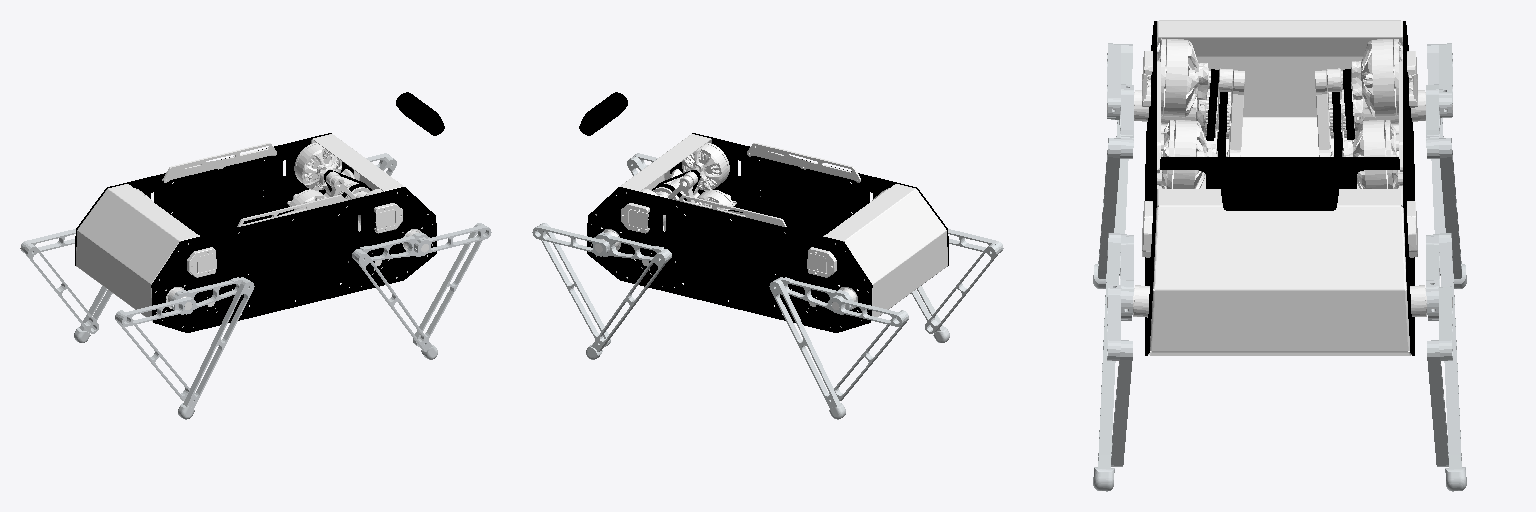
--- What the picture shows (computed from the rendered views, not written in the file) ---
Views: 3 orthographic renders of the robot side by side, from view 1: azimuth 30°, elevation 25°; view 2: azimuth 150°, elevation 25°; view 3: azimuth 270°, elevation 25°.
Robot: doggo_description — 28 links, 27 joints (16 continuous, 11 fixed); root link base_link; default pose: all joints at 0.
Visible links, largest first — view 1: frame, base_link, leg33, leg43, camera_link, leg44, leg32, leg41, leg24, leg31, leg42, leg34 (+1 smaller); view 2: frame, base_link, leg23, leg13, camera_link, leg14, leg22, leg11, leg34, leg12, leg21, leg24; view 3: base_link, frame, camera_link, leg14, leg44, leg13, leg43, leg23, leg33, leg24, leg34, leg12 (+7 smaller).
Boxes of the visible links, x1=… form: frame: x1=75, y1=133, x2=436, y2=332; base_link: x1=76, y1=134, x2=432, y2=327; leg33: x1=183, y1=279, x2=254, y2=408; leg43: x1=413, y1=223, x2=485, y2=346; camera_link: x1=396, y1=92, x2=444, y2=135; leg44: x1=355, y1=251, x2=432, y2=351; leg32: x1=119, y1=297, x2=195, y2=326; leg41: x1=414, y1=225, x2=491, y2=254; leg24: x1=24, y1=244, x2=98, y2=333; leg31: x1=171, y1=277, x2=245, y2=314; leg42: x1=352, y1=232, x2=431, y2=260; leg34: x1=115, y1=310, x2=189, y2=400; frame: x1=587, y1=133, x2=948, y2=332; base_link: x1=591, y1=134, x2=947, y2=327; leg23: x1=769, y1=279, x2=840, y2=408; leg13: x1=538, y1=223, x2=610, y2=346; camera_link: x1=579, y1=92, x2=627, y2=135; leg14: x1=591, y1=251, x2=668, y2=351; leg22: x1=828, y1=295, x2=904, y2=326; leg11: x1=532, y1=225, x2=609, y2=256; leg34: x1=925, y1=244, x2=999, y2=333; leg12: x1=592, y1=232, x2=671, y2=260; leg21: x1=778, y1=277, x2=852, y2=314; leg24: x1=834, y1=310, x2=908, y2=400; base_link: x1=1107, y1=20, x2=1452, y2=355; frame: x1=1145, y1=21, x2=1414, y2=355; camera_link: x1=1221, y1=175, x2=1338, y2=210; leg14: x1=1439, y1=233, x2=1461, y2=468; leg44: x1=1098, y1=233, x2=1120, y2=468; leg13: x1=1427, y1=340, x2=1448, y2=466; leg43: x1=1111, y1=340, x2=1132, y2=466; leg23: x1=1439, y1=138, x2=1461, y2=278; leg33: x1=1098, y1=138, x2=1120, y2=278; leg24: x1=1427, y1=44, x2=1445, y2=275; leg34: x1=1114, y1=44, x2=1132, y2=275; leg12: x1=1426, y1=234, x2=1439, y2=320.
Size in the robot's own frame: 0.5458 by 0.2824 by 0.293 metres.
23 mesh visuals loaded from 23 distinct referenced files (23 binary STL).

URDF robot description (doggo_description):
<?xml version="1.0" encoding="utf-8"?>
<!-- This URDF was automatically created by SolidWorks to URDF Exporter! Originally created by Stephen Brawner ([email redacted]) 
     Commit Version: 1.5.1-0-g916b5db  Build Version: 1.5.7152.31018
     For more information, please see http://wiki.ros.org/sw_urdf_exporter -->
<robot
  name="doggo_description">

    <gazebo reference="base_link">
		<material>Gazebo/White</material>
	</gazebo>
	<gazebo reference="frame">
		<material>Gazebo/Black</material>
	</gazebo>

  <link
    name="base_link">
    <inertial>
      <origin
        xyz="4.0137E-07 -5.4265E-09 -0.0050974"
        rpy="0 0 0" />
      <!-- 1.6553 -->
      <mass
        value="1.6553" />
      <inertia
        ixx="0.0019798"
        ixy="-4.1121E-08"
        ixz="-3.9928E-09"
        iyy="0.0014157"
        iyz="-4.2669E-10"
        izz="0.001756" />
    </inertial>
    <visual>
      <origin
        xyz="0 0 0"
        rpy="0 0 0" />
      <geometry>
        <mesh
          filename="package://doggo_description/meshes/base_link.stl" />
      </geometry>
      <material
        name="">
        <color
          rgba="1 1 1 1" />
      </material>
    </visual>
    <collision>
      <origin
        xyz="0 0 0"
        rpy="0 0 0" />
      <geometry>
        <mesh
          filename="package://doggo_description/meshes/base_link.stl" />
      </geometry>
    </collision>
  </link>
  <link
    name="frame">
    <inertial>
      <origin
        xyz="-0.098956 0.012762 -0.17499"
        rpy="0 0 0" />
      <mass
        value="0.44543" />
      <inertia
        ixx="0.004949"
        ixy="-1.5499E-05"
        ixz="2.3781E-15"
        iyy="0.0046541"
        iyz="-1.2495E-16"
        izz="0.00060534" />
    </inertial>
    <visual>
      <origin
        xyz="0 0 0"
        rpy="0 0 0" />
      <geometry>
        <mesh
          filename="package://doggo_description/meshes/frame.STL" />
      </geometry>
      <material
        name="">
        <color
          rgba="0 0 0 1" />
      </material>
    </visual>
    <collision>
      <origin
        xyz="0 0 0"
        rpy="0 0 0" />
      <geometry>
        <mesh
          filename="package://doggo_description/meshes/frame.STL" />
      </geometry>
    </collision>
  </link>
  <joint
    name="base_frame"
    type="fixed">
    <origin
      xyz="-0.174999999999967 -0.0992757156092079 -0.0118897657684994"
      rpy="1.57079632679489 -0.0523598775598229 -1.5707963267949" />
    <parent
      link="base_link" />
    <child
      link="frame" />
    <axis
      xyz="0 0 0" />
  </joint>
  <link
    name="leg11">
    <inertial>
      <origin
        xyz="0.00473641153079969 -0.0400546917663641 -0.000402773248607047"
        rpy="0 0 0" />
      <mass
        value="0.0177492811466513" />
      <inertia
        ixx="2.26666365128031E-05"
        ixy="-7.05482831182034E-13"
        ixz="-2.10434595791076E-13"
        iyy="8.22376388767111E-07"
        iyz="2.84555978380763E-07"
        izz="2.21159117116047E-05" />
    </inertial>
    <visual>
      <origin
        xyz="0 0 0"
        rpy="0 0 0" />
      <geometry>
        <mesh
          filename="package://doggo_description/meshes/leg11.STL" />
      </geometry>
      <material
        name="">
        <color
          rgba="0.898039215686275 0.917647058823529 0.929411764705882 1" />
      </material>
    </visual>
    <collision>
      <origin
        xyz="0 0 0"
        rpy="0 0 0" />
      <geometry>
        <mesh
          filename="package://doggo_description/meshes/leg11.STL" />
      </geometry>
    </collision>
  </link>
  <joint
    name="frame_leg11"
    type="continuous">
    <origin
      xyz="-0.219712353732748 0.0126440812806081 -0.35"
      rpy="1.57079632679489 0 3.03687289847014" />
    <parent
      link="frame" />
    <child
      link="leg11" />
    <axis
      xyz="1 0 0" />
  </joint>
  <link
    name="leg13">
    <inertial>
      <origin
        xyz="-0.0047885894733085 -0.0778812653760268 5.27355936696949E-16"
        rpy="0 0 0" />
      <mass
        value="0.0249183575640696" />
      <inertia
        ixx="8.50714680974236E-05"
        ixy="-5.24101636113598E-21"
        ixz="-8.470329472543E-22"
        iyy="1.15093364635689E-06"
        iyz="-1.98981398276928E-20"
        izz="8.42973233783957E-05" />
    </inertial>
    <visual>
      <origin
        xyz="0 0 0"
        rpy="0 0 0" />
      <geometry>
        <mesh
          filename="package://doggo_description/meshes/leg13.STL" />
      </geometry>
      <material
        name="">
        <color
          rgba="0.898039215686275 0.917647058823529 0.929411764705882 1" />
      </material>
    </visual>
    <collision>
      <origin
        xyz="0 0 0"
        rpy="0 0 0" />
      <geometry>
        <mesh
          filename="package://doggo_description/meshes/leg13.STL" />
      </geometry>
    </collision>
  </link>
  <joint
    name="leg11_leg13"
    type="continuous">
    <origin
      xyz="0 -0.09 0"
      rpy="2.18846006023504 0 0" />
    <parent
      link="leg11" />
    <child
      link="leg13" />
    <axis
      xyz="1 0 0" />
  </joint>
  <link
    name="leg12">
    <inertial>
      <origin
        xyz="-0.00478858450409037 -0.0250709741997628 -0.000508253782198557"
        rpy="0 0 0" />
      <mass
        value="0.0248452488629152" />
      <inertia
        ixx="3.18814346047358E-05"
        ixy="-4.21856160922778E-12"
        ixz="2.28295592667529E-14"
        iyy="1.87736029511954E-06"
        iyz="-4.60366749634874E-08"
        izz="3.03827516292619E-05" />
    </inertial>
    <visual>
      <origin
        xyz="0 0 0"
        rpy="0 0 0" />
      <geometry>
        <mesh
          filename="package://doggo_description/meshes/leg12.STL" />
      </geometry>
      <material
        name="">
        <color
          rgba="0.898039215686275 0.917647058823529 0.929411764705882 1" />
      </material>
    </visual>
    <collision>
      <origin
        xyz="0 0 0"
        rpy="0 0 0" />
      <geometry>
        <mesh
          filename="package://doggo_description/meshes/leg12.STL" />
      </geometry>
    </collision>
  </link>
  <joint
    name="frame_leg12"
    type="continuous">
    <origin
      xyz="-0.219712353732748 0.012644081280608 -0.34"
      rpy="-1.51465572998769 0 3.03687289847014" />
    <parent
      link="frame" />
    <child
      link="leg12" />
    <axis
      xyz="1 0 0" />
  </joint>
  <link
    name="leg14">
    <inertial>
      <origin
        xyz="0.00473641052669149 -0.0857929956840353 3.25017790459015E-14"
        rpy="0 0 0" />
      <mass
        value="0.0302066230898901" />
      <inertia
        ixx="0.000123370358212557"
        ixy="1.29304873354289E-20"
        ixz="6.35274710440725E-22"
        iyy="1.01593562451106E-06"
        iyz="-6.19368259905878E-17"
        izz="0.000122811175047875" />
    </inertial>
    <visual>
      <origin
        xyz="0 0 0"
        rpy="0 0 0" />
      <geometry>
        <mesh
          filename="package://doggo_description/meshes/leg14.STL" />
      </geometry>
      <material
        name="">
        <color
          rgba="0.898039215686275 0.917647058823529 0.929411764705882 1" />
      </material>
    </visual>
    <collision>
      <origin
        xyz="0 0 0"
        rpy="0 0 0" />
      <geometry>
        <mesh
          filename="package://doggo_description/meshes/leg14.STL" />
      </geometry>
    </collision>
  </link>
  <joint
    name="leg12_leg14"
    type="continuous">
    <origin
      xyz="0 -0.0800157546944706 -0.000561111111111217"
      rpy="-2.18846006023503 0 0" />
    <parent
      link="leg12" />
    <child
      link="leg14" />
    <axis
      xyz="1 0 0" />
  </joint>
  <link
    name="shoe1">
    <inertial>
      <origin
        xyz="0.00526347046647044 -0.179876460917477 -3.47847804865742E-08"
        rpy="0 0 0" />
      <mass
        value="0.0067619489677717" />
      <inertia
        ixx="2.89934238268779E-07"
        ixy="-4.53173826351264E-12"
        ixz="1.11948400149251E-11"
        iyy="3.09327713491595E-07"
        iyz="1.02889131421492E-11"
        izz="2.89371081098196E-07" />
    </inertial>
    <visual>
      <origin
        xyz="0 0 0"
        rpy="0 0 0" />
      <geometry>
        <mesh
          filename="package://doggo_description/meshes/shoe1.STL" />
      </geometry>
      <material
        name="">
        <color
          rgba="0.898039215686275 0.917647058823529 0.929411764705882 1" />
      </material>
    </visual>
    <collision>
      <origin
        xyz="0 0 0"
        rpy="0 0 0" />
      <geometry>
        <mesh
          filename="package://doggo_description/meshes/shoe1.STL" />
      </geometry>
      <surface>
        <friction>
	      <mu>1000.0</mu>
	      <mu2>1000.0</mu2>
	      <kp value="1.0" />
	      <kd value="10000000.0"/>
	      <fdir1>1 1 1 </fdir1>
	      <minDepth>0.005</minDepth>
        </friction>
      </surface>
    </collision>
  </link>
  <joint
    name="leg14_shoe1"
    type="fixed">
    <origin
      xyz="0.01 0 0"
      rpy="3.14159265358979 0 3.14159265358979" />
    <parent
      link="leg14" />
    <child
      link="shoe1" />
    <axis
      xyz="0 0 0" />
  </joint>
  <link
    name="leg21">
    <inertial>
      <origin
        xyz="0.00473641523493279 -0.0350552092175932 5.28600552103476E-05"
        rpy="0 0 0" />
      <mass
        value="0.0248452593322982" />
      <inertia
        ixx="3.18814417563457E-05"
        ixy="-4.03765604646941E-12"
        ixz="5.00275704685331E-14"
        iyy="1.87736032635851E-06"
        iyz="-4.60381023078403E-08"
        izz="3.03827587093249E-05" />
    </inertial>
    <visual>
      <origin
        xyz="0 0 0"
        rpy="0 0 0" />
      <geometry>
        <mesh
          filename="package://doggo_description/meshes/leg21.STL" />
      </geometry>
      <material
        name="">
        <color
          rgba="0.898039215686275 0.917647058823529 0.929411764705882 1" />
      </material>
    </visual>
    <collision>
      <origin
        xyz="0 0 0"
        rpy="0 0 0" />
      <geometry>
        <mesh
          filename="package://doggo_description/meshes/leg21.STL" />
      </geometry>
    </collision>
  </link>
  <joint
    name="frame_leg21"
    type="continuous">
    <origin
      xyz="-0.210239532679365 0.0116484476679836 0"
      rpy="1.51465572998769 0 3.03687289847014" />
    <parent
      link="frame" />
    <child
      link="leg21" />
    <axis
      xyz="1 0 0" />
  </joint>
  <link
    name="leg23">
    <inertial>
      <origin
        xyz="0.0047365130400379 -0.0857929956840341 3.4180991370647E-14"
        rpy="0 0 0" />
      <mass
        value="0.0302066230898895" />
      <inertia
        ixx="0.000123370358212556"
        ixy="-2.27305923607122E-19"
        ixz="0"
        iyy="1.01593562451131E-06"
        iyz="-6.34294052669368E-17"
        izz="0.000122811175047873" />
    </inertial>
    <visual>
      <origin
        xyz="0 0 0"
        rpy="0 0 0" />
      <geometry>
        <mesh
          filename="package://doggo_description/meshes/leg23.STL" />
      </geometry>
      <material
        name="">
        <color
          rgba="0.898039215686275 0.917647058823529 0.929411764705882 1" />
      </material>
    </visual>
    <collision>
      <origin
        xyz="0 0 0"
        rpy="0 0 0" />
      <geometry>
        <mesh
          filename="package://doggo_description/meshes/leg23.STL" />
      </geometry>
    </collision>
  </link>
  <joint
    name="leg21_leg23"
    type="continuous">
    <origin
      xyz="0.0095248974866534 -0.09 0"
      rpy="2.18846006023503 0 0" />
    <parent
      link="leg21" />
    <child
      link="leg23" />
    <axis
      xyz="1 0 0" />
  </joint>
  <link
    name="shoe2">
    <inertial>
      <origin
        xyz="0.00526334634534026 -0.179876470411932 -4.73843669024365E-08"
        rpy="0 0 0" />
      <mass
        value="0.00676194704431705" />
      <inertia
        ixx="2.89933725898764E-07"
        ixy="-3.59739076728077E-12"
        ixz="1.13806903467384E-11"
        iyy="3.09327965440927E-07"
        iyz="1.13005668961044E-11"
        izz="2.89371624270925E-07" />
    </inertial>
    <visual>
      <origin
        xyz="0 0 0"
        rpy="0 0 0" />
      <geometry>
        <mesh
          filename="package://doggo_description/meshes/shoe2.STL" />
      </geometry>
      <material
        name="">
        <color
          rgba="0.898039215686275 0.917647058823529 0.929411764705882 1" />
      </material>
    </visual>
    <collision>
      <origin
        xyz="0 0 0"
        rpy="0 0 0" />
      <geometry>
        <mesh
          filename="package://doggo_description/meshes/shoe2.STL" />
      </geometry>
      <surface>
        <friction>
	      <mu>1000.0</mu>
	      <mu2>1000.0</mu2>
	      <kp value="1.0" />
	      <kd value="10000000.0"/>
	      <fdir1>1 1 1 </fdir1>
	      <minDepth>0.005</minDepth>
        </friction>
      </surface>
    </collision>
  </link>
  <joint
    name="leg23_shoe2"
    type="fixed">
    <origin
      xyz="0.01 0 0"
      rpy="3.14159265358979 0 3.14159265358979" />
    <parent
      link="leg23" />
    <child
      link="shoe2" />
    <axis
      xyz="0 0 0" />
  </joint>
  <link
    name="leg22">
    <inertial>
      <origin
        xyz="0.00426141153079966 -0.0400546917663641 -0.0004027732486068"
        rpy="0 0 0" />
      <mass
        value="0.0177492811466513" />
      <inertia
        ixx="2.26666365128031E-05"
        ixy="-7.05482824567954E-13"
        ixz="-2.10434599496845E-13"
        iyy="8.22376388767116E-07"
        iyz="2.8455597838094E-07"
        izz="2.21159117116047E-05" />
    </inertial>
    <visual>
      <origin
        xyz="0 0 0"
        rpy="0 0 0" />
      <geometry>
        <mesh
          filename="package://doggo_description/meshes/leg22.STL" />
      </geometry>
      <material
        name="">
        <color
          rgba="0.898039215686275 0.917647058823529 0.929411764705882 1" />
      </material>
    </visual>
    <collision>
      <origin
        xyz="0 0 0"
        rpy="0 0 0" />
      <geometry>
        <mesh
          filename="package://doggo_description/meshes/leg22.STL" />
      </geometry>
    </collision>
  </link>
  <joint
    name="frame_leg22"
    type="continuous">
    <origin
      xyz="-0.220184751633048 0.01269373230066 0"
      rpy="-1.5707963267949 0 3.03687289847014" />
    <parent
      link="frame" />
    <child
      link="leg22" />
    <axis
      xyz="1 0 0" />
  </joint>
  <link
    name="leg24">
    <inertial>
      <origin
        xyz="-0.00526358947330857 -0.0778812653760269 5.27355936696949E-16"
        rpy="0 0 0" />
      <mass
        value="0.0249183575640697" />
      <inertia
        ixx="8.50714680974238E-05"
        ixy="-3.11052997544441E-20"
        ixz="-1.90582413132218E-21"
        iyy="1.15093364635692E-06"
        iyz="-2.22540536098204E-20"
        izz="8.42973233783957E-05" />
    </inertial>
    <visual>
      <origin
        xyz="0 0 0"
        rpy="0 0 0" />
      <geometry>
        <mesh
          filename="package://doggo_description/meshes/leg24.STL" />
      </geometry>
      <material
        name="">
        <color
          rgba="0.898039215686275 0.917647058823529 0.929411764705882 1" />
      </material>
    </visual>
    <collision>
      <origin
        xyz="0 0 0"
        rpy="0 0 0" />
      <geometry>
        <mesh
          filename="package://doggo_description/meshes/leg24.STL" />
      </geometry>
    </collision>
  </link>
  <joint
    name="leg22_leg24"
    type="continuous">
    <origin
      xyz="0 -0.09 0"
      rpy="-2.18846006023503 0 0" />
    <parent
      link="leg22" />
    <child
      link="leg24" />
    <axis
      xyz="1 0 0" />
  </joint>
  <link
    name="leg31">
    <inertial>
      <origin
        xyz="0.00676250496921826 -0.0350552195052921 5.28573289125152E-05"
        rpy="0 0 0" />
      <mass
        value="0.0248452488629152" />
      <inertia
        ixx="3.18814346047358E-05"
        ixy="-4.21856161706842E-12"
        ixz="2.28295600079067E-14"
        iyy="1.87736029511954E-06"
        iyz="-4.60366749635035E-08"
        izz="3.0382751629262E-05" />
    </inertial>
    <visual>
      <origin
        xyz="0 0 0"
        rpy="0 0 0" />
      <geometry>
        <mesh
          filename="package://doggo_description/meshes/leg31.STL" />
      </geometry>
      <material
        name="">
        <color
          rgba="0.898039215686275 0.917647058823529 0.929411764705882 1" />
      </material>
    </visual>
    <collision>
      <origin
        xyz="0 0 0"
        rpy="0 0 0" />
      <geometry>
        <mesh
          filename="package://doggo_description/meshes/leg31.STL" />
      </geometry>
    </collision>
  </link>
  <joint
    name="frame_leg31"
    type="continuous">
    <origin
      xyz="0.01 0 0"
      rpy="1.6269369236021 0 0" />
    <parent
      link="frame" />
    <child
      link="leg31" />
    <axis
      xyz="1 0 0" />
  </joint>
  <link
    name="leg33">
    <inertial>
      <origin
        xyz="0.0137813538834254 -0.0857929956840353 3.2460145682478E-14"
        rpy="0 0 0" />
      <mass
        value="0.0302066230898901" />
      <inertia
        ixx="0.000123370358212557"
        ixy="-1.34317587866361E-19"
        ixz="-1.27054942088145E-21"
        iyy="1.01593562451106E-06"
        iyz="-6.19601779196656E-17"
        izz="0.000122811175047875" />
    </inertial>
    <visual>
      <origin
        xyz="0 0 0"
        rpy="0 0 0" />
      <geometry>
        <mesh
          filename="package://doggo_description/meshes/leg33.STL" />
      </geometry>
      <material
        name="">
        <color
          rgba="0.898039215686275 0.917647058823529 0.929411764705882 1" />
      </material>
    </visual>
    <collision>
      <origin
        xyz="0 0 0"
        rpy="0 0 0" />
      <geometry>
        <mesh
          filename="package://doggo_description/meshes/leg33.STL" />
      </geometry>
    </collision>
  </link>
  <joint
    name="leg31_leg33"
    type="continuous">
    <origin
      xyz="0.00250614611657457 -0.0899999999999999 0"
      rpy="-2.18846006023503 0 0" />
    <parent
      link="leg31" />
    <child
      link="leg33" />
    <axis
      xyz="1 0 0" />
  </joint>
  <link
    name="shoe3">
    <inertial>
      <origin
        xyz="0.00378120255404579 -0.179876453100306 -6.02841195157522E-08"
        rpy="0 0 0" />
      <mass
        value="0.00676194246801817" />
      <inertia
        ixx="2.89933378234274E-07"
        ixy="-3.40400314738815E-12"
        ixz="1.07934692580414E-11"
        iyy="3.09327744880635E-07"
        iyz="1.15463175981782E-11"
        izz="2.89371750215061E-07" />
    </inertial>
    <visual>
      <origin
        xyz="0 0 0"
        rpy="0 0 0" />
      <geometry>
        <mesh
          filename="package://doggo_description/meshes/shoe3.STL" />
      </geometry>
      <material
        name="">
        <color
          rgba="0.898039215686275 0.917647058823529 0.929411764705882 1" />
      </material>
    </visual>
    <collision>
      <origin
        xyz="0 0 0"
        rpy="0 0 0" />
      <geometry>
        <mesh
          filename="package://doggo_description/meshes/shoe3.STL" />
      </geometry>
      <surface>
        <friction>
	      <mu>1000.0</mu>
	      <mu2>1000.0</mu2>
	      <kp value="1.0" />
	      <kd value="10000000.0"/>
	      <fdir1>1 1 1 </fdir1>
	      <minDepth>0.005</minDepth>
        </friction>
      </surface>
    </collision>
  </link>
  <joint
    name="leg33_shoe3"
    type="fixed">
    <origin
      xyz="0.01 0 0"
      rpy="0 0 0" />
    <parent
      link="leg33" />
    <child
      link="shoe3" />
    <axis
      xyz="0 0 0" />
  </joint>
  <link
    name="leg32">
    <inertial>
      <origin
        xyz="0.00613230165905557 -0.0400546917663641 -0.000402773248606731"
        rpy="0 0 0" />
      <mass
        value="0.0177492811466513" />
      <inertia
        ixx="2.26666365128031E-05"
        ixy="-7.05482818903421E-13"
        ixz="-2.10434597485142E-13"
        iyy="8.22376388767114E-07"
        iyz="2.84555978380928E-07"
        izz="2.21159117116047E-05" />
    </inertial>
    <visual>
      <origin
        xyz="0 0 0"
        rpy="0 0 0" />
      <geometry>
        <mesh
          filename="package://doggo_description/meshes/leg32.STL" />
      </geometry>
      <material
        name="">
        <color
          rgba="0.898039215686275 0.917647058823529 0.929411764705882 1" />
      </material>
    </visual>
    <collision>
      <origin
        xyz="0 0 0"
        rpy="0 0 0" />
      <geometry>
        <mesh
          filename="package://doggo_description/meshes/leg32.STL" />
      </geometry>
    </collision>
  </link>
  <joint
    name="frame_leg32"
    type="continuous">
    <origin
      xyz="0.0201551993450529 0 0"
      rpy="-1.5707963267949 0 0" />
    <parent
      link="frame" />
    <child
      link="leg32" />
    <axis
      xyz="1 0 0" />
  </joint>
  <link
    name="leg34">
    <inertial>
      <origin
        xyz="-0.00339269934505262 -0.0778812653760269 3.33066907387547E-16"
        rpy="0 0 0" />
      <mass
        value="0.0249183575640697" />
      <inertia
        ixx="8.50714680974238E-05"
        ixy="1.81043366308256E-19"
        ixz="-1.6940658945086E-21"
        iyy="1.15093364635692E-06"
        iyz="-2.21036721744582E-19"
        izz="8.42973233783958E-05" />
    </inertial>
    <visual>
      <origin
        xyz="0 0 0"
        rpy="0 0 0" />
      <geometry>
        <mesh
          filename="package://doggo_description/meshes/leg34.STL" />
      </geometry>
      <material
        name="">
        <color
          rgba="0.898039215686275 0.917647058823529 0.929411764705882 1" />
      </material>
    </visual>
    <collision>
      <origin
        xyz="0 0 0"
        rpy="0 0 0" />
      <geometry>
        <mesh
          filename="package://doggo_description/meshes/leg34.STL" />
      </geometry>
    </collision>
  </link>
  <joint
    name="leg32_leg34"
    type="continuous">
    <origin
      xyz="0 -0.0899999999999999 0"
      rpy="2.18846006023503 0 0" />
    <parent
      link="leg32" />
    <child
      link="leg34" />
    <axis
      xyz="1 0 0" />
  </joint>
  <link
    name="leg41">
    <inertial>
      <origin
        xyz="0.00575552140515104 -0.0400546917663641 -0.00040277324860696"
        rpy="0 0 0" />
      <mass
        value="0.0177492811466514" />
      <inertia
        ixx="2.26666365128032E-05"
        ixy="-7.05482824045324E-13"
        ixz="-2.10434598332175E-13"
        iyy="8.22376388767114E-07"
        iyz="2.84555978380827E-07"
        izz="2.21159117116048E-05" />
    </inertial>
    <visual>
      <origin
        xyz="0 0 0"
        rpy="0 0 0" />
      <geometry>
        <mesh
          filename="package://doggo_description/meshes/leg41.STL" />
      </geometry>
      <material
        name="">
        <color
          rgba="0.898039215686275 0.917647058823529 0.929411764705882 1" />
      </material>
    </visual>
    <collision>
      <origin
        xyz="0 0 0"
        rpy="0 0 0" />
      <geometry>
        <mesh
          filename="package://doggo_description/meshes/leg41.STL" />
      </geometry>
    </collision>
  </link>
  <joint
    name="frame_leg41"
    type="continuous">
    <origin
      xyz="0.020531979598957 0 -0.35"
      rpy="1.57079632679489 0 0" />
    <parent
      link="frame" />
    <child
      link="leg41" />
    <axis
      xyz="1 0 0" />
  </joint>
  <link
    name="leg43">
    <inertial>
      <origin
        xyz="-0.00376947959895713 -0.0778812653760269 2.77555756156289E-16"
        rpy="0 0 0" />
      <mass
        value="0.0249183575640696" />
      <inertia
        ixx="8.50714680974237E-05"
        ixy="1.00641410768102E-19"
        ixz="4.2351647362715E-22"
        iyy="1.15093364635691E-06"
        iyz="-2.41944849100202E-19"
        izz="8.42973233783958E-05" />
    </inertial>
    <visual>
      <origin
        xyz="0 0 0"
        rpy="0 0 0" />
      <geometry>
        <mesh
          filename="package://doggo_description/meshes/leg43.STL" />
      </geometry>
      <material
        name="">
        <color
          rgba="0.898039215686275 0.917647058823529 0.929411764705882 1" />
      </material>
    </visual>
    <collision>
      <origin
        xyz="0 0 0"
        rpy="0 0 0" />
      <geometry>
        <mesh
          filename="package://doggo_description/meshes/leg43.STL" />
      </geometry>
    </collision>
  </link>
  <joint
    name="leg41_leg43"
    type="continuous">
    <origin
      xyz="0 -0.09 0"
      rpy="-2.18846006023503 0 0" />
    <parent
      link="leg41" />
    <child
      link="leg43" />
    <axis
      xyz="1 0 0" />
  </joint>
  <link
    name="leg42">
    <inertial>
      <origin
        xyz="0.00660730536318853 -0.0350552092175932 5.2860055210365E-05"
        rpy="0 0 0" />
      <mass
        value="0.0248452593322981" />
      <inertia
        ixx="3.18814417563456E-05"
        ixy="-4.03765606066135E-12"
        ixz="5.0027568562709E-14"
        iyy="1.8773603263585E-06"
        iyz="-4.60381023078596E-08"
        izz="3.03827587093249E-05" />
    </inertial>
    <visual>
      <origin
        xyz="0 0 0"
        rpy="0 0 0" />
      <geometry>
        <mesh
          filename="package://doggo_description/meshes/leg42.STL" />
      </geometry>
      <material
        name="">
        <color
          rgba="0.898039215686275 0.917647058823529 0.929411764705882 1" />
      </material>
    </visual>
    <collision>
      <origin
        xyz="0 0 0"
        rpy="0 0 0" />
      <geometry>
        <mesh
          filename="package://doggo_description/meshes/leg42.STL" />
      </geometry>
    </collision>
  </link>
  <joint
    name="frame_leg42"
    type="continuous">
    <origin
      xyz="0.0101551993450526 0 -0.35"
      rpy="-1.6269369236021 0 0" />
    <parent
      link="frame" />
    <child
      link="leg42" />
    <axis
      xyz="1 0 0" />
  </joint>
  <link
    name="leg44">
    <inertial>
      <origin
        xyz="0.0137813538834251 -0.0857929956840341 3.41254802194157E-14"
        rpy="0 0 0" />
      <mass
        value="0.0302066230898895" />
      <inertia
        ixx="0.000123370358212556"
        ixy="-4.39858253808748E-19"
        ixz="1.6940658945086E-21"
        iyy="1.01593562451133E-06"
        iyz="-6.34940714554916E-17"
        izz="0.000122811175047873" />
    </inertial>
    <visual>
      <origin
        xyz="0 0 0"
        rpy="0 0 0" />
      <geometry>
        <mesh
          filename="package://doggo_description/meshes/leg44.STL" />
      </geometry>
      <material
        name="">
        <color
          rgba="0.898039215686275 0.917647058823529 0.929411764705882 1" />
      </material>
    </visual>
    <collision>
      <origin
        xyz="0 0 0"
        rpy="0 0 0" />
      <geometry>
        <mesh
          filename="package://doggo_description/meshes/leg44.STL" />
      </geometry>
    </collision>
  </link>
  <joint
    name="leg42_leg44"
    type="continuous">
    <origin
      xyz="0.00235094677152173 -0.09 0"
      rpy="2.18846006023503 0 0" />
    <parent
      link="leg42" />
    <child
      link="leg44" />
    <axis
      xyz="1 0 0" />
  </joint>
  <link
    name="shoe4">
    <inertial>
      <origin
        xyz="0.00378122419555416 -0.179876443426376 -4.78241996282325E-08"
        rpy="0 0 0" />
      <mass
        value="0.00676194448321673" />
      <inertia
        ixx="2.89933872075379E-07"
        ixy="-4.3343838597577E-12"
        ixz="1.06267003306052E-11"
        iyy="3.09327434428408E-07"
        iyz="1.05191066462915E-11"
        izz="2.89371183528626E-07" />
    </inertial>
    <visual>
      <origin
        xyz="0 0 0"
        rpy="0 0 0" />
      <geometry>
        <mesh
          filename="package://doggo_description/meshes/shoe4.STL" />
      </geometry>
      <material
        name="">
        <color
          rgba="0.898039215686275 0.917647058823529 0.929411764705882 1" />
      </material>
    </visual>
    <collision>
      <origin
        xyz="0 0 0"
        rpy="0 0 0" />
      <geometry>
        <mesh
          filename="package://doggo_description/meshes/shoe4.STL" />
      </geometry>
      <surface>
        <friction>
	      <mu>1000.0</mu>
	      <mu2>1000.0</mu2>
	      <kp value="1.0" />
	      <kd value="10000000.0"/>
	      <fdir1>1 1 1 </fdir1>
	      <minDepth>0.005</minDepth>
        </friction>
      </surface>
    </collision>
  </link>
  <joint
    name="leg44_shoe4"
    type="fixed">
    <origin
      xyz="0.01 0 0"
      rpy="0 0 0" />
    <parent
      link="leg44" />
    <child
      link="shoe4" />
    <axis
      xyz="0 0 0" />
  </joint>

  <link name="footstep1"/>
  <link name="footstep2"/>
  <link name="footstep3"/>
  <link name="footstep4"/>

    <joint
    name="shoe1_footstep1"
    type="fixed">
    <origin
      xyz="0 -0.19 0"
      rpy="0 2.13 1.5708" />
    <parent
      link="shoe1" />
    <child
      link="footstep1" />
    <axis
      xyz="0 0 0" />
  </joint>

      <joint
    name="shoe2_footstep2"
    type="fixed">
    <origin
      xyz="0 -0.19 0"
      rpy="0 1.011 1.5708" />
    <parent
      link="shoe2" />
    <child
      link="footstep2" />
    <axis
      xyz="0 0 0" />
  </joint>

      <joint
    name="shoe3_footstep3"
    type="fixed">
    <origin
      xyz="0 -0.19 0"
      rpy="0 1.011 1.5708" />
    <parent
      link="shoe3" />
    <child
      link="footstep3" />
    <axis
      xyz="0 0 0" />
  </joint>

        <joint
    name="shoe4_footstep4"
    type="fixed">
    <origin
      xyz="0 -0.19 0"
      rpy="0 2.13 1.5708" />
    <parent
      link="shoe4" />
    <child
      link="footstep4" />
    <axis
      xyz="0 0 0" />
  </joint>

  <transmission name="frame_leg11">
    <type>transmission_interface/SimpleTransmission</type>
    <joint name="frame_leg11" >
      <hardwareInterface>hardware_interface/EffortJointInterface</hardwareInterface>
    </joint>
    <actuator name="frame_leg11">
      <hardwareInterface>hardware_interface/EffortJointInterface</hardwareInterface>
      <mechanicalReduction>2</mechanicalReduction>
    </actuator>
  </transmission> 

  <transmission name="frame_leg12">
    <type>transmission_interface/SimpleTransmission</type>
    <joint name="frame_leg12" >
      <hardwareInterface>hardware_interface/EffortJointInterface</hardwareInterface>
    </joint>
    <actuator name="frame_leg12">
      <hardwareInterface>hardware_interface/EffortJointInterface</hardwareInterface>
      <mechanicalReduction>2</mechanicalReduction>
    </actuator>
  </transmission> 

  <transmission name="frame_leg21">
    <type>transmission_interface/SimpleTransmission</type>
    <joint name="frame_leg21" >
      <hardwareInterface>hardware_interface/EffortJointInterface</hardwareInterface>
    </joint>
    <actuator name="frame_leg21">
      <hardwareInterface>hardware_interface/EffortJointInterface</hardwareInterface>
      <mechanicalReduction>2</mechanicalReduction>
    </actuator>
  </transmission> 

  <transmission name="frame_leg22">
    <type>transmission_interface/SimpleTransmission</type>
    <joint name="frame_leg22" >
      <hardwareInterface>hardware_interface/EffortJointInterface</hardwareInterface>
    </joint>
    <actuator name="frame_leg22">
      <hardwareInterface>hardware_interface/EffortJointInterface</hardwareInterface>
      <mechanicalReduction>2</mechanicalReduction>
    </actuator>
  </transmission> 

  <transmission name="frame_leg31">
    <type>transmission_interface/SimpleTransmission</type>
    <joint name="frame_leg31" >
      <hardwareInterface>hardware_interface/EffortJointInterface</hardwareInterface>
    </joint>
    <actuator name="frame_leg31">
      <hardwareInterface>hardware_interface/EffortJointInterface</hardwareInterface>
      <mechanicalReduction>2</mechanicalReduction>
    </actuator>
  </transmission> 

  <transmission name="frame_leg32">
    <type>transmission_interface/SimpleTransmission</type>
    <joint name="frame_leg32" >
      <hardwareInterface>hardware_interface/EffortJointInterface</hardwareInterface>
    </joint>
    <actuator name="frame_leg32">
      <hardwareInterface>hardware_interface/EffortJointInterface</hardwareInterface>
      <mechanicalReduction>2</mechanicalReduction>
    </actuator>
  </transmission> 

  <transmission name="frame_leg41">
    <type>transmission_interface/SimpleTransmission</type>
    <joint name="frame_leg41" >
      <hardwareInterface>hardware_interface/EffortJointInterface</hardwareInterface>
    </joint>
    <actuator name="frame_leg41">
      <hardwareInterface>hardware_interface/EffortJointInterface</hardwareInterface>
      <mechanicalReduction>2</mechanicalReduction>
    </actuator>
  </transmission> 

  <transmission name="frame_leg42">
    <type>transmission_interface/SimpleTransmission</type>
    <joint name="frame_leg42" >
      <hardwareInterface>hardware_interface/EffortJointInterface</hardwareInterface>
    </joint>
    <actuator name="frame_leg42">
      <hardwareInterface>hardware_interface/EffortJointInterface</hardwareInterface>
      <mechanicalReduction>2</mechanicalReduction>
    </actuator>
  </transmission> 

  <gazebo>
    <plugin name="gazebo_ros_control" filename="libgazebo_ros_control.so">
      <legacyModeNS>true</legacyModeNS>
      <robotNamespace>/doggo_description</robotNamespace>
      <robotBaseFrame>base_link</robotBaseFrame>
    </plugin> 
  </gazebo>


  <!-- Sensors -->
<link name="camera_link">
      <collision>
      <origin xyz="0 0 0" rpy="1.57 0 1.57"/>
      <geometry>
        <mesh filename="package://doggo_description/meshes/realsense_d435.STL"/>
      </geometry>
    </collision>
    <visual>
      <origin xyz="0 0 0.0" rpy="1.57 0 1.57"/>
      <geometry>
        <mesh filename="package://doggo_description/meshes/realsense_d435.STL" />
      </geometry>
      <material
        name="">
        <color
          rgba="0 0 0 1" />
      </material>
    </visual>
    <inertial>
      <mass value="1e-5" />
      <origin xyz="0 0 0" rpy="0 0 0"/>
      <inertia ixx="0" ixy="0" ixz="0" iyy="0" iyz="0" izz="0" />
    </inertial>
  </link>

  <link name="camera_depth_frame"/>

  <joint name="cam_joint1" type="fixed">
        <parent link="base_link" />
        <child link="camera_link" />
        <origin xyz="0.25 0.0 0.1" rpy="0 1 0"/>
  </joint>

  <joint name="cam_joint" type="fixed">
        <parent link="base_link" />
        <child link="camera_depth_frame" />
        <origin xyz="0.25 0.0 0.1" rpy="0 1 0"/>
  </joint>

  <gazebo reference="camera_link">  
      <sensor type="depth" name="camera">
        <always_on>true</always_on>
        <update_rate>30.0</update_rate>
        <camera>
          <horizontal_fov>1.59174</horizontal_fov>
          <image>
            <format>B8G8R8</format>
            <width>640</width>
            <height>480</height>
          </image>
          <clip>
            <near>0.2</near>
            <far>6.0</far>
          </clip>
        </camera>
        <plugin name="kinect_camera_controller" filename="libgazebo_ros_openni_kinect.so">
          <cameraName>D435</cameraName>
          <visualize>true</visualize>
          <alwaysOn>true</alwaysOn>
          <updateRate>30</updateRate>
          <imageTopicName>rgb/image_raw</imageTopicName>
          <depthImageTopicName>depth/image_raw</depthImageTopicName>
          <pointCloudTopicName>depth/points</pointCloudTopicName>
          <cameraInfoTopicName>rgb/camera_info</cameraInfoTopicName>
          <depthImageCameraInfoTopicName>depth/camera_info</depthImageCameraInfoTopicName>
          <frameName>camera_depth_frame</frameName>
          <distortion_k1>0.0</distortion_k1>
          <distortion_k2>0.0</distortion_k2>
          <distortion_k3>0.0</distortion_k3>
          <distortion_t1>0.0</distortion_t1>
          <distortion_t2>0.0</distortion_t2>
          <pointCloudCutoff>0.02</pointCloudCutoff>
          <CxPrime>0</CxPrime>
          <Cx>0</Cx>
          <Cy>0</Cy>
          <focalLength>0</focalLength>
          <hackBaseline>0</hackBaseline>
        </plugin>
      </sensor>
  </gazebo>

    <gazebo>
        <joint name="parallel_link1" type="revolute">
            <parent>leg14</parent>
            <child>leg13</child>
            <pose>0.0 -0.162 0 0 0 0</pose>
            <axis>
                <xyz>0 1 0</xyz>
                <limit>
                    <lower>-1</lower>
                    <upper>1</upper>
                </limit>
                <dynamics>
                    <spring_reference>0</spring_reference>
                    <spring_stiffness>0</spring_stiffness>
                </dynamics>
                <use_parent_model_frame>1</use_parent_model_frame>
    
            </axis>
            <physics>
                <ode>
                    <implicit_spring_damper>1</implicit_spring_damper>
                    <cfm_damping>1</cfm_damping>
                    <limit>
                        <cfm>0</cfm>
                        <erp>0.2</erp>
                    </limit>
                </ode>
            </physics>
        </joint>
    </gazebo>

        <gazebo>
        <joint name="parallel_link2" type="revolute">
            <parent>leg23</parent>
            <child>leg24</child>
            <pose>0.0 -0.162 0 0 0 0</pose>
            <axis>
                <xyz>0 1 0</xyz>
                <limit>
                    <lower>-1</lower>
                    <upper>1</upper>
                </limit>
                <dynamics>
                    <spring_reference>0</spring_reference>
                    <spring_stiffness>0</spring_stiffness>
                </dynamics>
                <use_parent_model_frame>1</use_parent_model_frame>
    
            </axis>
            <physics>
                <ode>
                    <implicit_spring_damper>1</implicit_spring_damper>
                    <cfm_damping>1</cfm_damping>
                    <limit>
                        <cfm>0</cfm>
                        <erp>0.2</erp>
                    </limit>
                </ode>
            </physics>
        </joint>
    </gazebo>

        <gazebo>
        <joint name="parallel_link3" type="revolute">
            <parent>leg33</parent>
            <child>leg34</child>
            <pose>0.0 -0.162 0 0 0 0</pose>
            <axis>
                <xyz>0 1 0</xyz>
                <limit>
                    <lower>-1</lower>
                    <upper>1</upper>
                </limit>
                <dynamics>
                    <spring_reference>0</spring_reference>
                    <spring_stiffness>0</spring_stiffness>
                </dynamics>
                <use_parent_model_frame>1</use_parent_model_frame>
    
            </axis>
            <physics>
                <ode>
                    <implicit_spring_damper>1</implicit_spring_damper>
                    <cfm_damping>1</cfm_damping>
                    <limit>
                        <cfm>0</cfm>
                        <erp>0.2</erp>
                    </limit>
                </ode>
            </physics>
        </joint>
    </gazebo>

        <gazebo>
        <joint name="parallel_link4" type="revolute">
            <parent>leg44</parent>
            <child>leg43</child>
            <pose>0.0 -0.162 0 0 0 0</pose>
            <axis>
                <xyz>0 1 0</xyz>
                <limit>
                    <lower>-1</lower>
                    <upper>1</upper>
                </limit>
                <dynamics>
                    <spring_reference>0</spring_reference>
                    <spring_stiffness>0</spring_stiffness>
                </dynamics>
                <use_parent_model_frame>1</use_parent_model_frame>
    
            </axis>
            <physics>
                <ode>
                    <implicit_spring_damper>1</implicit_spring_damper>
                    <cfm_damping>1</cfm_damping>
                    <limit>
                        <cfm>0</cfm>
                        <erp>0.2</erp>
                    </limit>
                </ode>
            </physics>
        </joint>
    </gazebo>

</robot>
